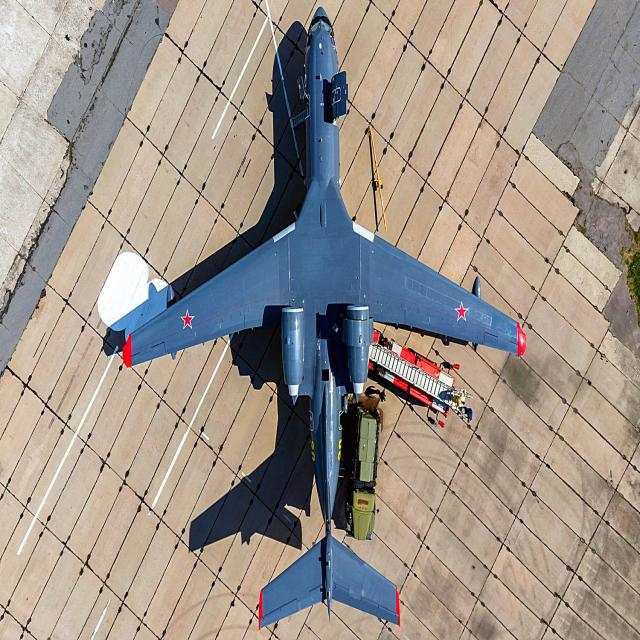MIL_Plane: (0, 0, 271, 379)
